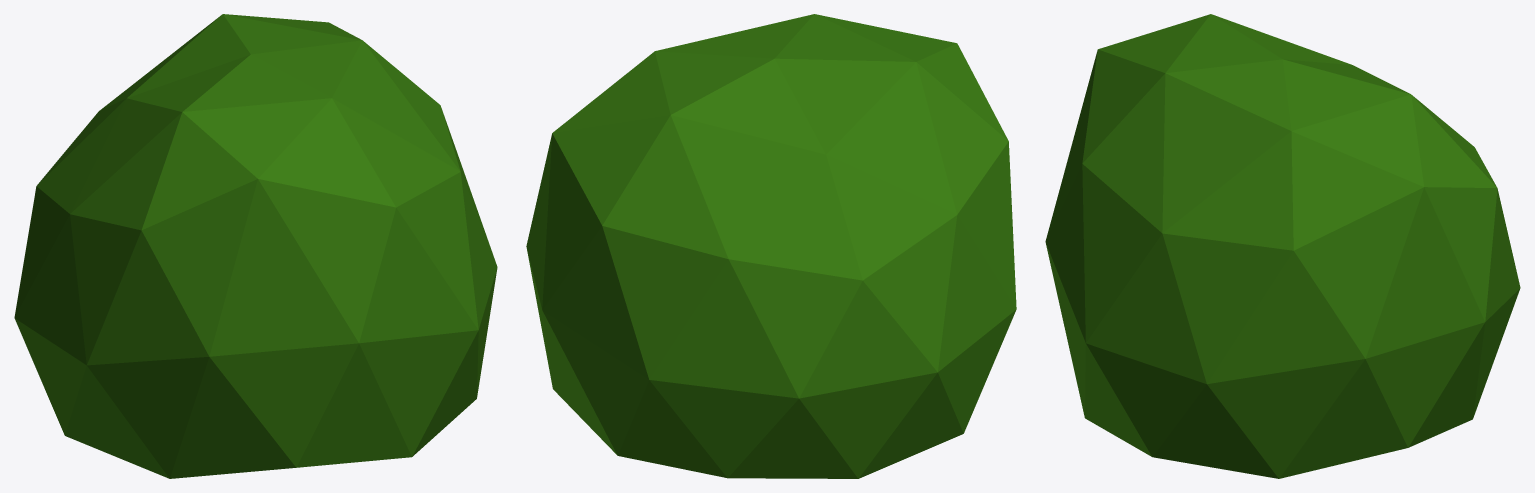
The model's file is bush2.obj.
3 views of the same model, side by side, from view 1: azimuth 30°, elevation 25°; view 2: azimuth 150°, elevation 25°; view 3: azimuth 270°, elevation 25° (orthographic). The views are drawn at different scales.
Visible parts, largest first — view 1: Bush2_Icosphere.084; view 2: Bush2_Icosphere.084; view 3: Bush2_Icosphere.084.
Boxes of the visible parts, box(x1,y1,x2,y2) form: Bush2_Icosphere.084: box(14, 14, 497, 478); Bush2_Icosphere.084: box(526, 14, 1016, 478); Bush2_Icosphere.084: box(1045, 14, 1520, 478).
Bounding box in the file's own units: 14.58 × 12.25 × 15.07.
